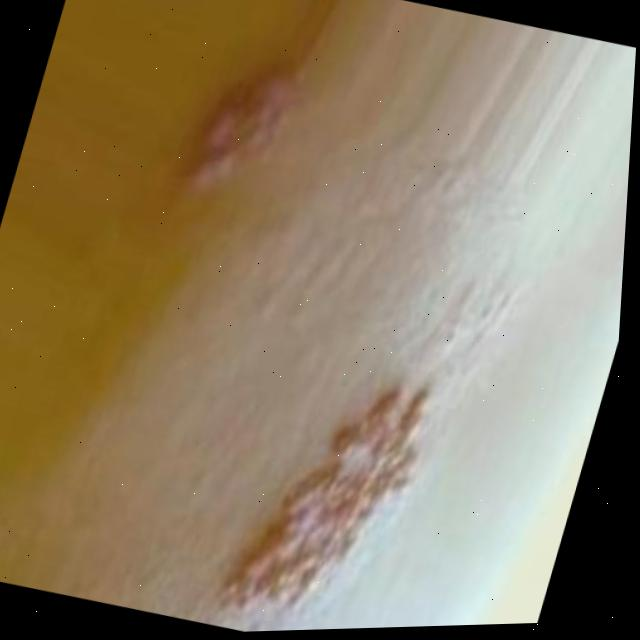Shingles: (210, 371, 435, 633), (178, 49, 306, 203)
